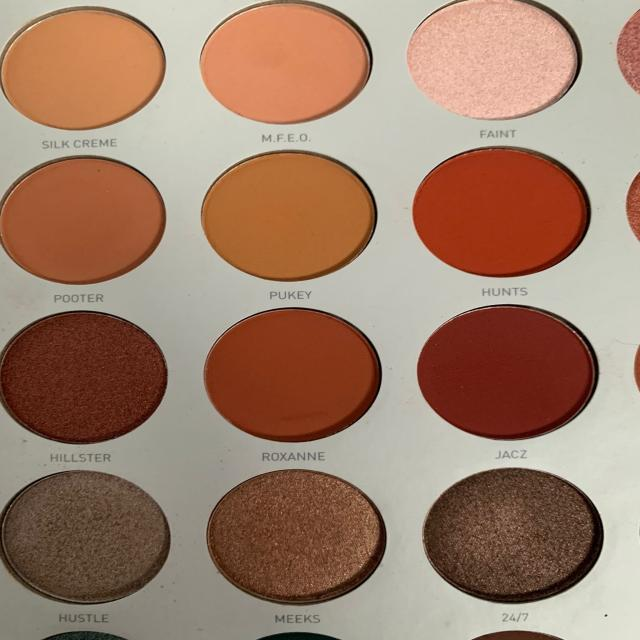bronzer: (0, 3, 386, 297), (397, 140, 607, 290)
eye shade: (0, 292, 612, 620)
highlighter: (397, 0, 614, 132)
